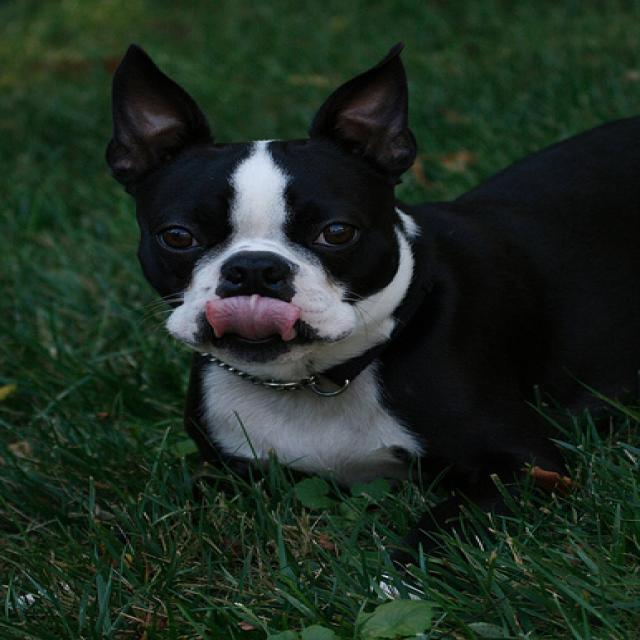dog: (104, 41, 414, 363)
